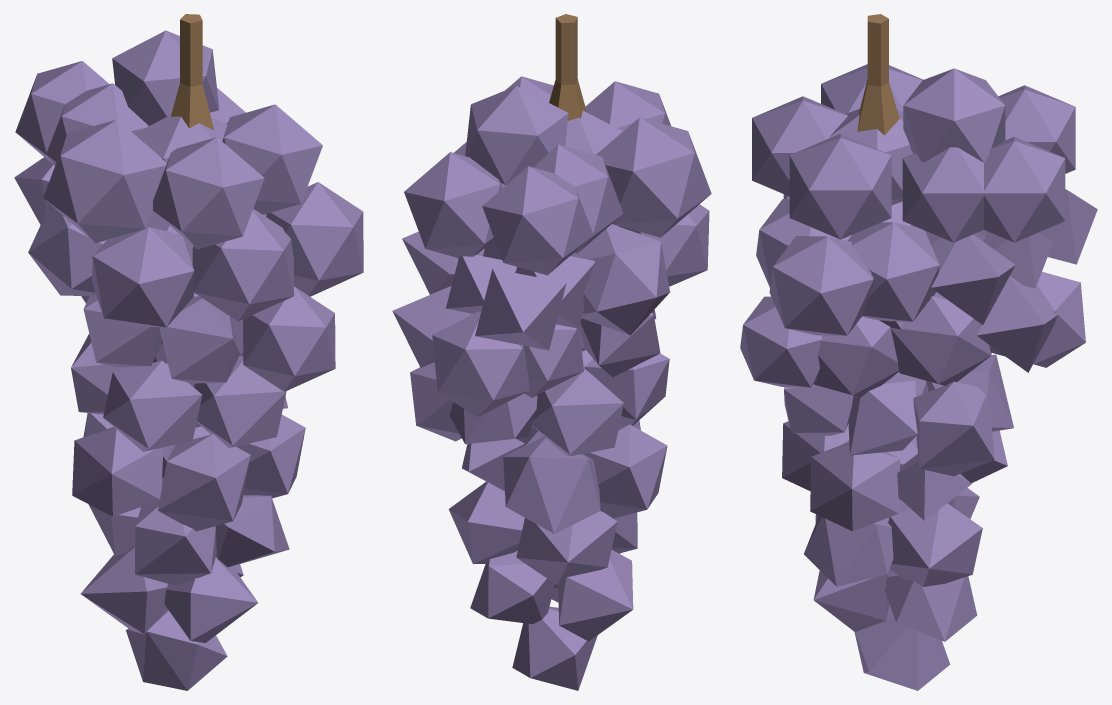
File: Grape_02.fbx
3 renders of one model, left to right at view 1: azimuth 30°, elevation 25°; view 2: azimuth 150°, elevation 25°; view 3: azimuth 270°, elevation 25°, orthographic. The views are drawn at different scales.
Parts seen in each view (by area): view 1: Grape_02; view 2: Grape_02; view 3: Grape_02.
Boxes of the visible parts, left/top/right/bottom form: Grape_02: left=14, top=14, right=363, bottom=690; Grape_02: left=392, top=14, right=711, bottom=690; Grape_02: left=740, top=14, right=1097, bottom=690.
Size of the model in its own units: 10.55 by 24.61 by 12.01.
